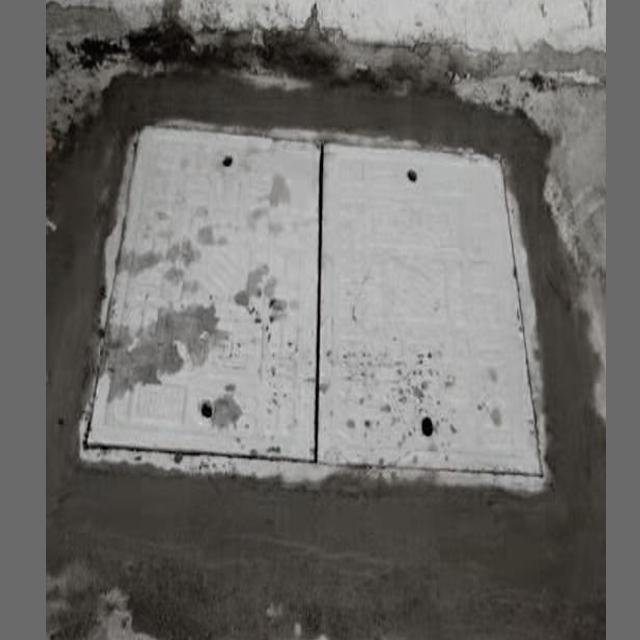good: (76, 134, 542, 468)
